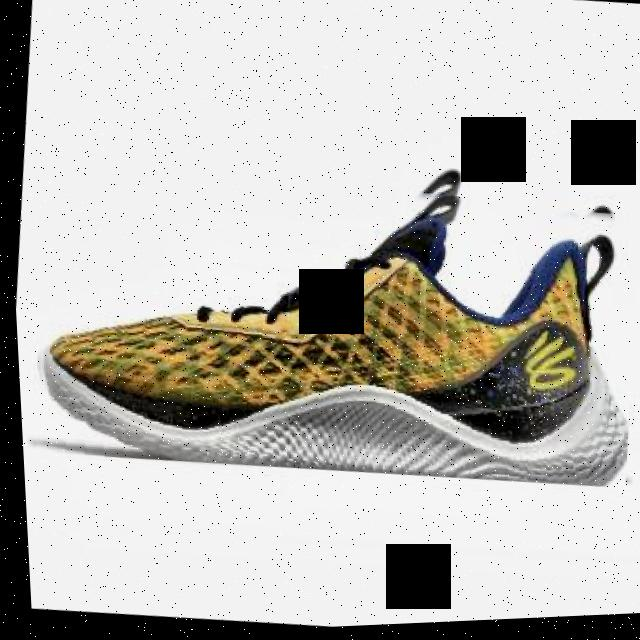shoe: (12, 130, 640, 514)
